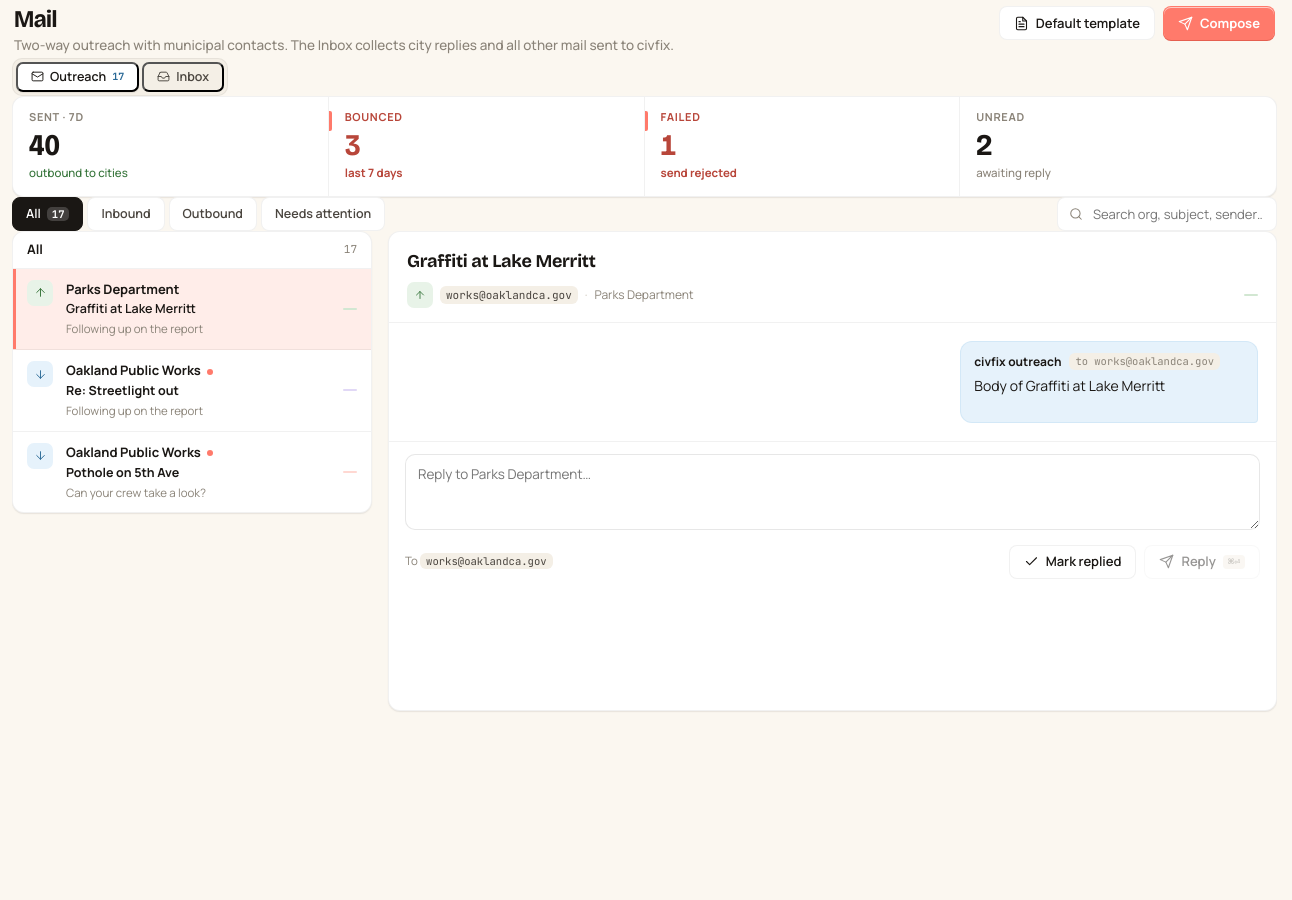
Scenario: MailPage outreach › keeps an unread thread open under Needs attention when opening it reads it out of the list
Expected: the text "Body of Graffiti at Lake Merritt" is shown, [974,376,1165,395]
What coordinates should you click on to do the following:
click the button "Needs attention"
I would click on:
 (323, 214)
Its box is [261,197,385,231].
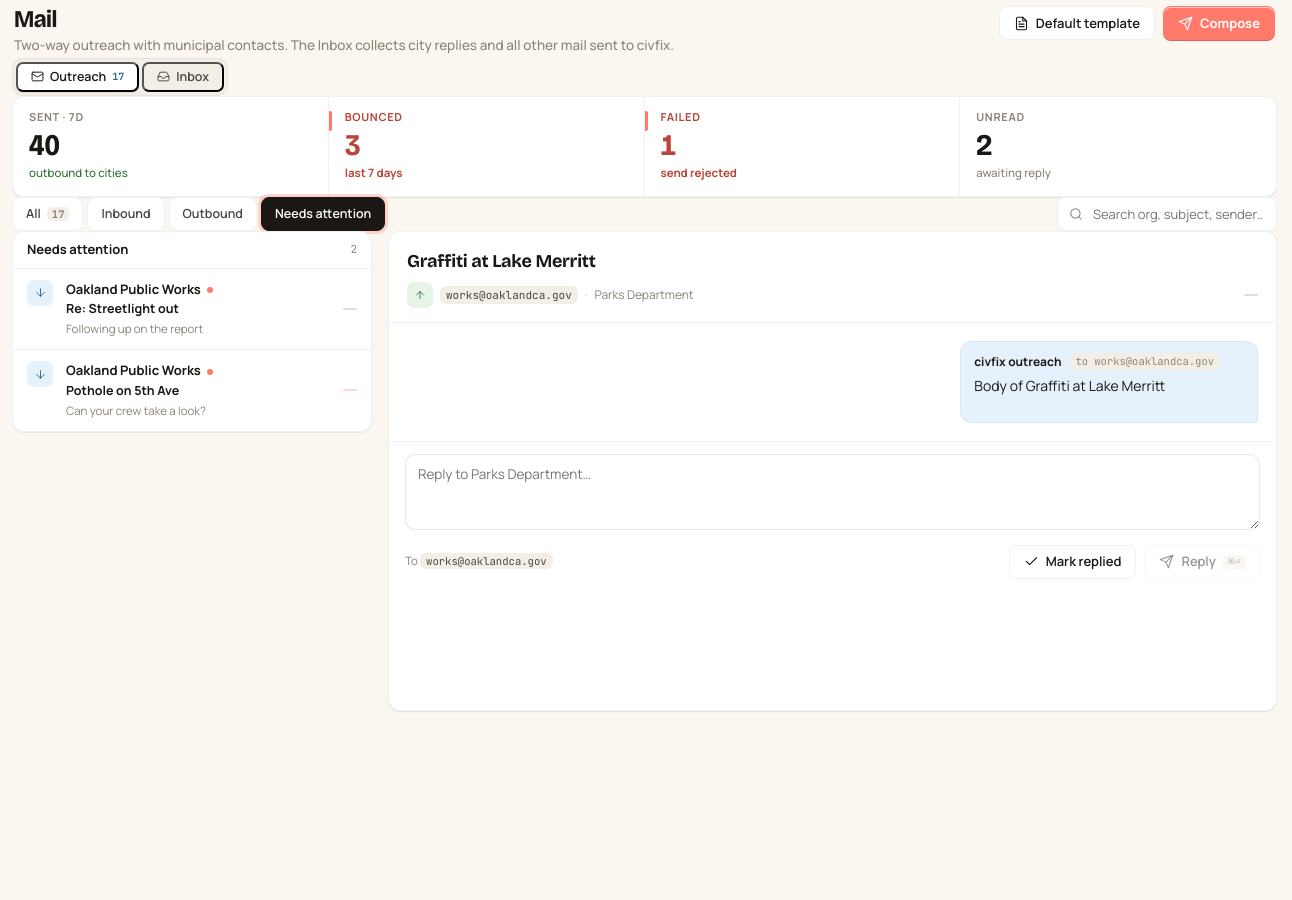
What coordinates should you click on to do the following:
click the text "Re: Streetlight out"
I would click on:
 (122, 309)
Its box is [66,300,179,317].
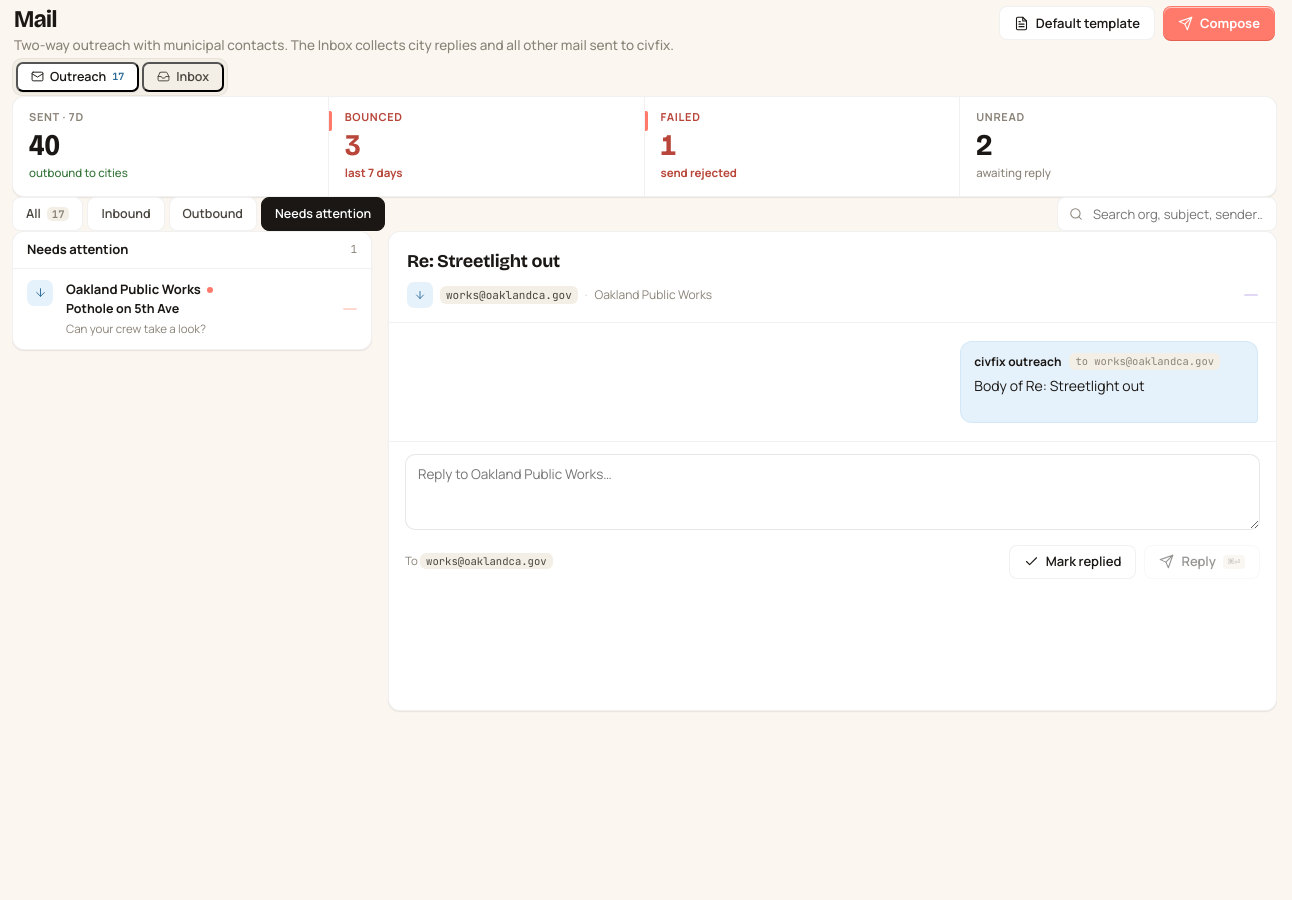
Now the text "Body of Re: Streetlight out" is shown, box [974,376,1145,395]
